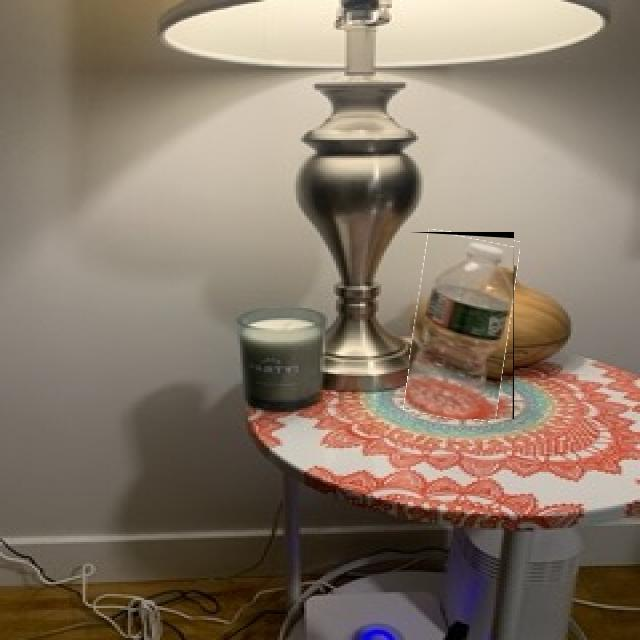water_bottle: (409, 232, 514, 419)
